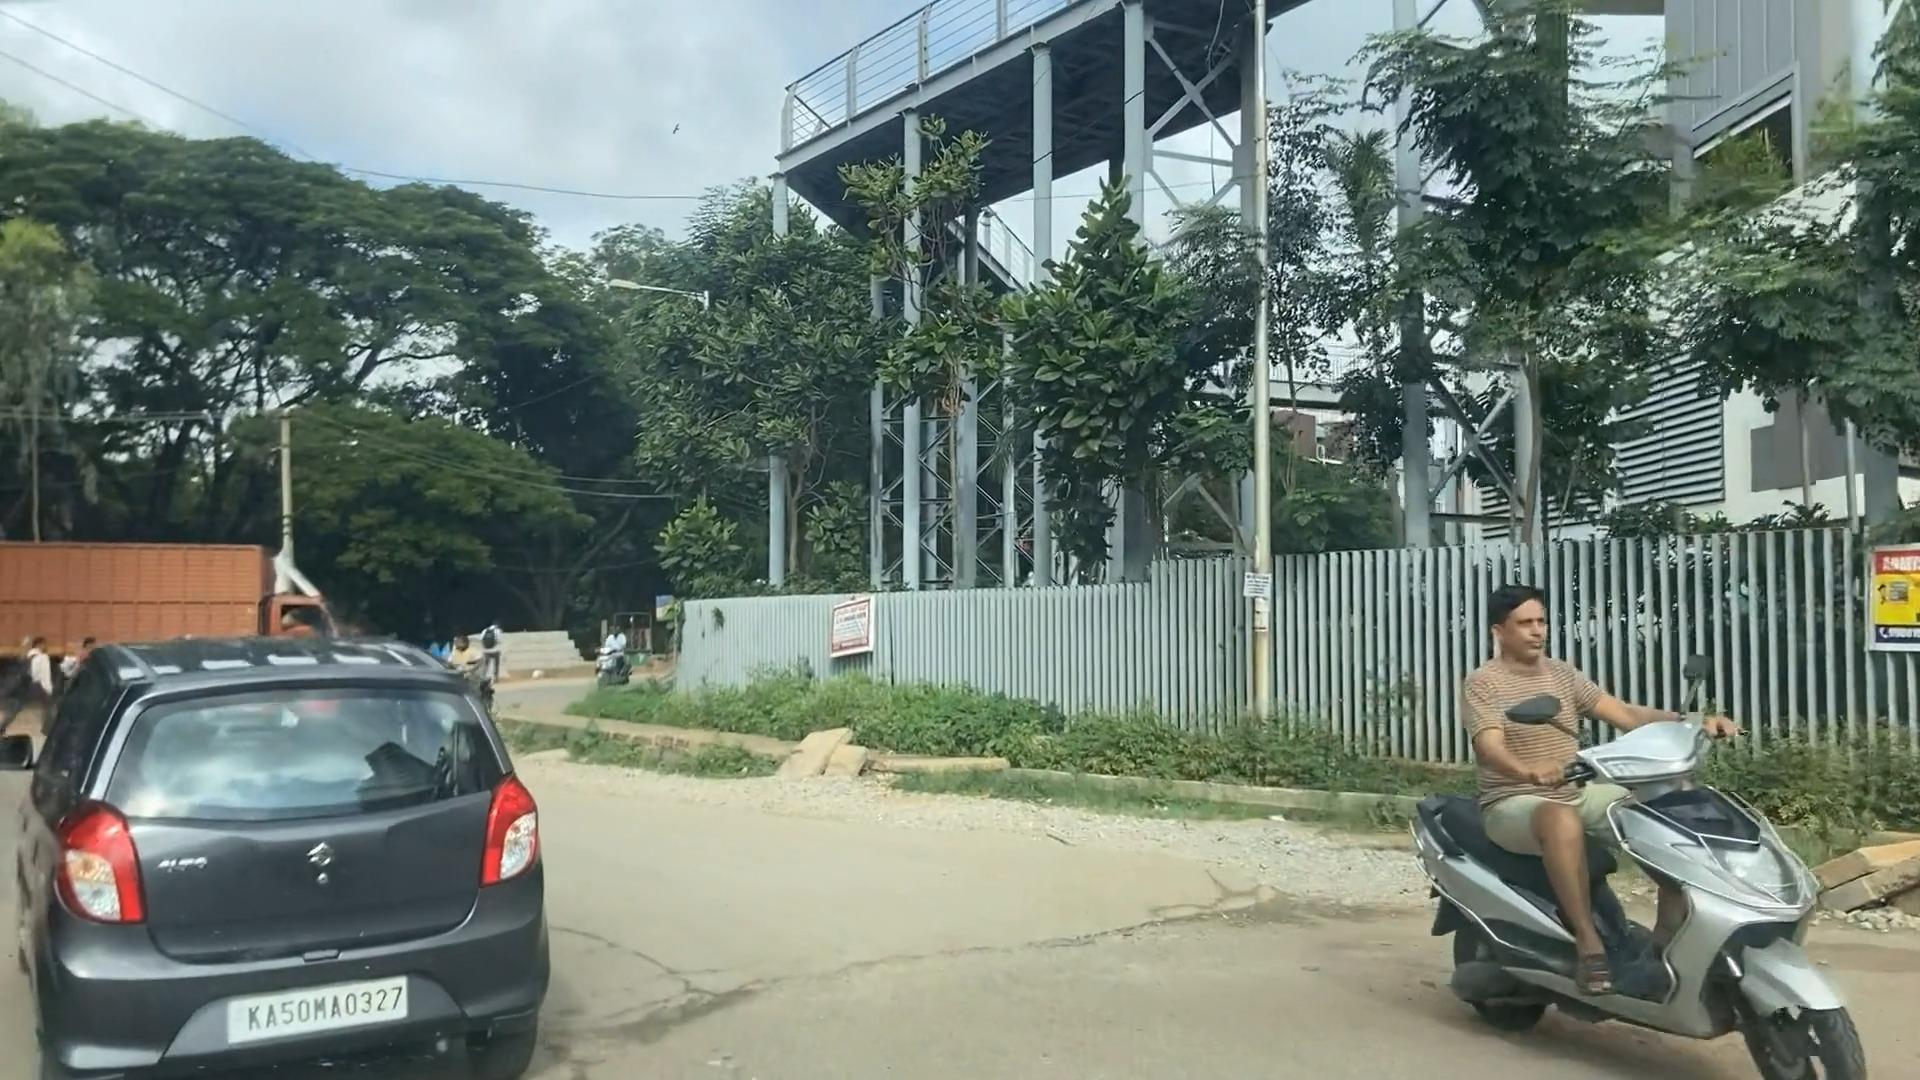LMV: (24, 646, 537, 1080), (1443, 603, 1867, 1080)
RoadDamages: (592, 869, 1269, 1040)
